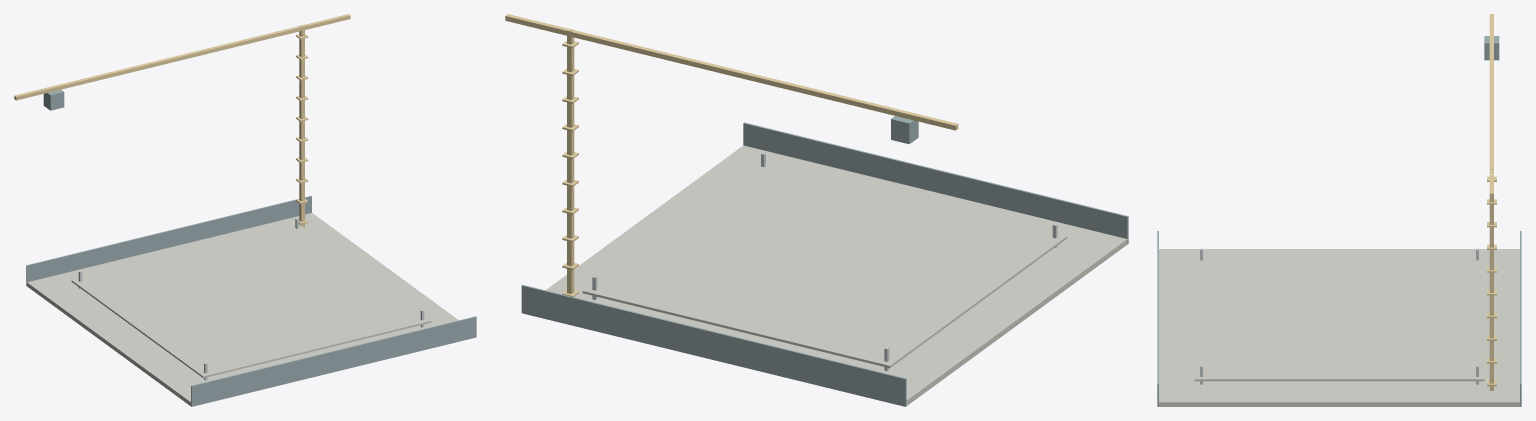
The model's file is remaster_site_3_0.glb.
3 views of the same model, side by side, from view 1: azimuth 30°, elevation 25°; view 2: azimuth 150°, elevation 25°; view 3: azimuth 270°, elevation 25° (orthographic). The views are drawn at different scales.
Parts seen in each view (by area): view 1: remaster_site_3_0 stone, remaster_site_3_0 roof, remaster_site_3_0 gold; view 2: remaster_site_3_0 stone, remaster_site_3_0 roof, remaster_site_3_0 gold; view 3: remaster_site_3_0 stone, remaster_site_3_0 gold, remaster_site_3_0 roof.
Part boxes in pixels (x1,y1,x2,y2): remaster_site_3_0 stone: [26, 213, 458, 405]; remaster_site_3_0 roof: [26, 89, 476, 406]; remaster_site_3_0 gold: [14, 14, 350, 227]; remaster_site_3_0 stone: [546, 145, 1127, 406]; remaster_site_3_0 roof: [521, 116, 1128, 406]; remaster_site_3_0 gold: [505, 14, 958, 297]; remaster_site_3_0 stone: [1158, 249, 1520, 406]; remaster_site_3_0 gold: [1487, 14, 1496, 390]; remaster_site_3_0 roof: [1157, 36, 1521, 406].
Size of the model in its own units: 34 by 20 by 29.14.
